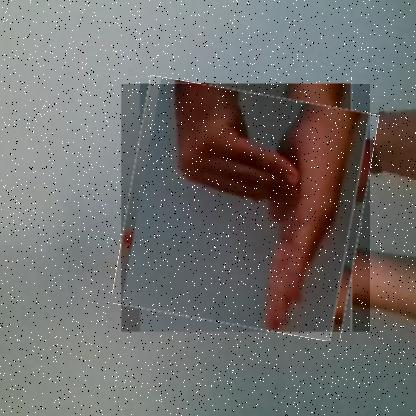Z: (120, 84, 370, 333)
